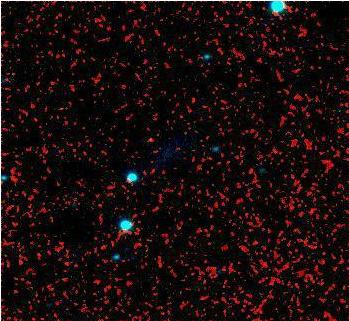star: (137, 128, 167, 158)
